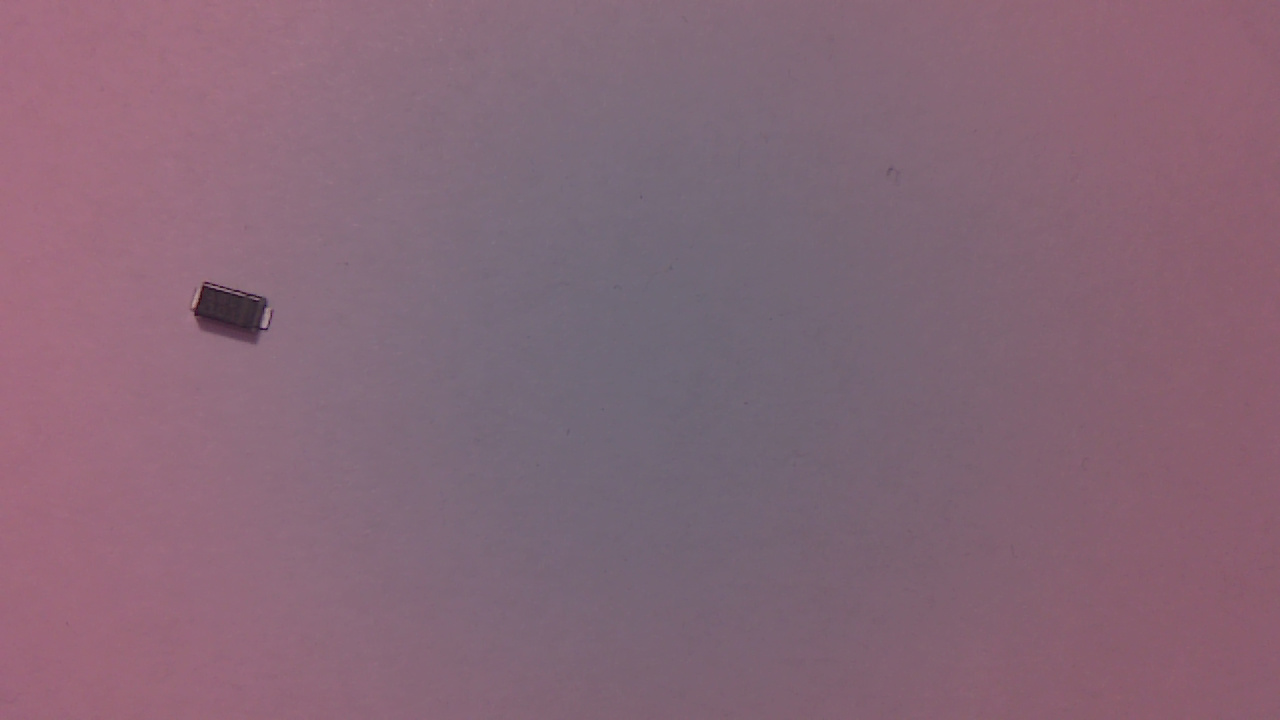Diode: (194, 288, 279, 338)
